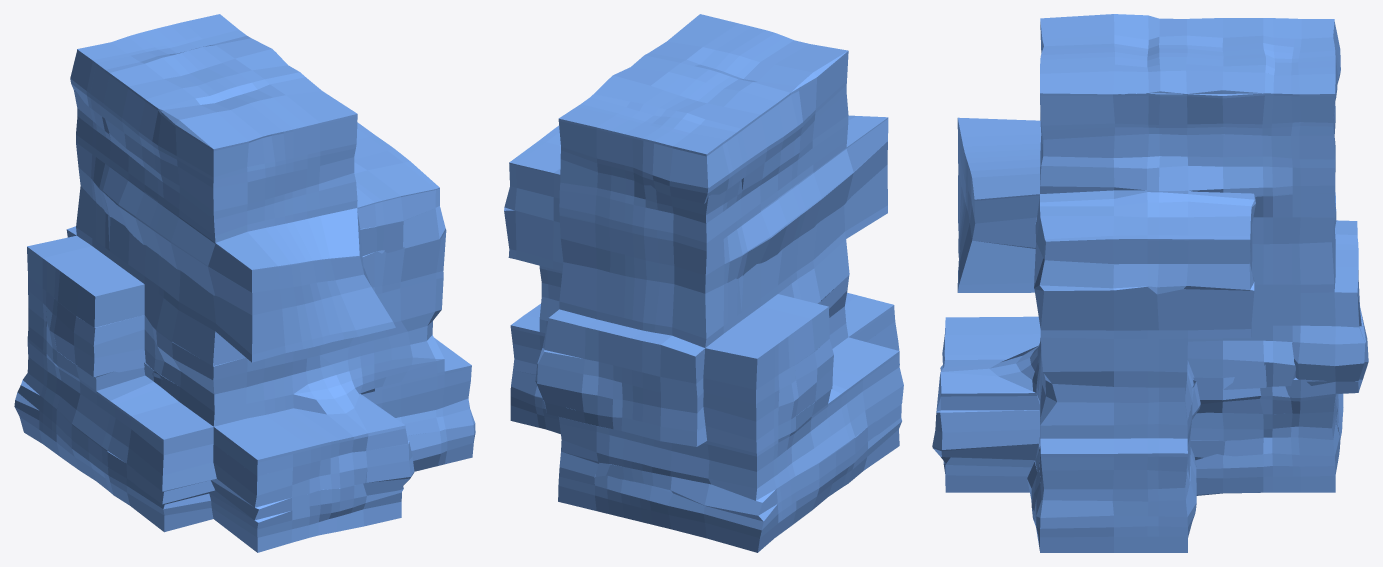
File: icemodel.fbx
3 views of the same model, side by side, from view 1: azimuth 30°, elevation 25°; view 2: azimuth 150°, elevation 25°; view 3: azimuth 270°, elevation 25° (orthographic). The views are drawn at different scales.
Visible parts, largest first — view 1: Cube; view 2: Cube; view 3: Cube.
Part boxes in pixels (x1,y1,x2,y2): Cube: [14, 14, 475, 552]; Cube: [504, 14, 903, 552]; Cube: [932, 14, 1368, 552].
Size of the model in its own units: 444 by 503 by 488.
